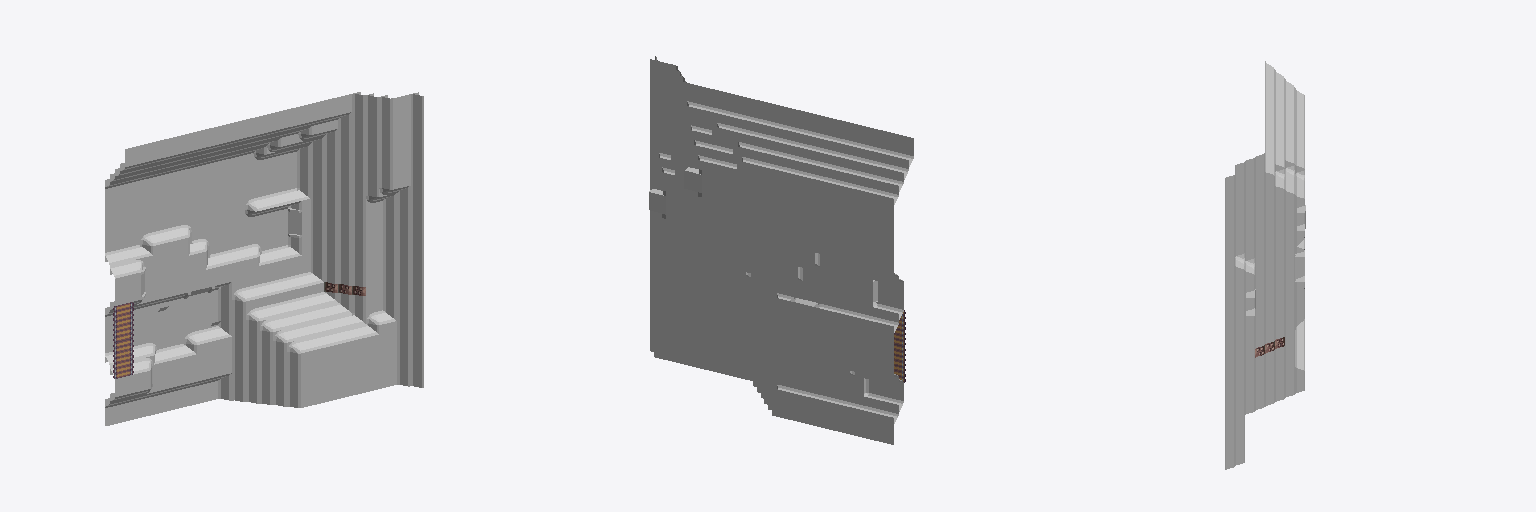
The picture shows the model from 3 angles: view 1: azimuth 30°, elevation 25°; view 2: azimuth 150°, elevation 25°; view 3: azimuth 270°, elevation 25°; orthographic projection.
Visible parts, largest first — view 1: map; view 2: map; view 3: map.
Boxes of the visible parts, <box> form: map: <box>105,92,423,425</box>; map: <box>649,56,913,444</box>; map: <box>1225,61,1305,469</box>.
Size of the model in its own units: 32.25 by 32 by 10.97.
Materials: 12 (2 with a texture image).